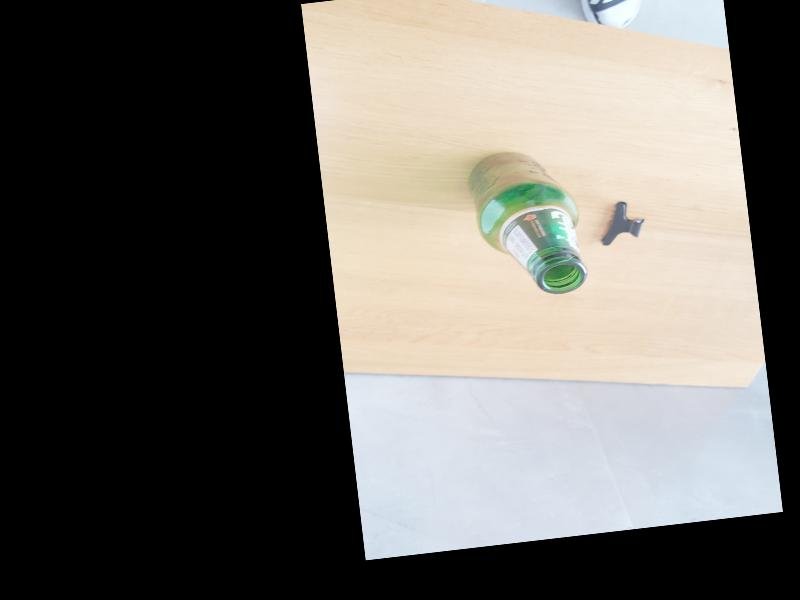Beer: (464, 142, 589, 302)
